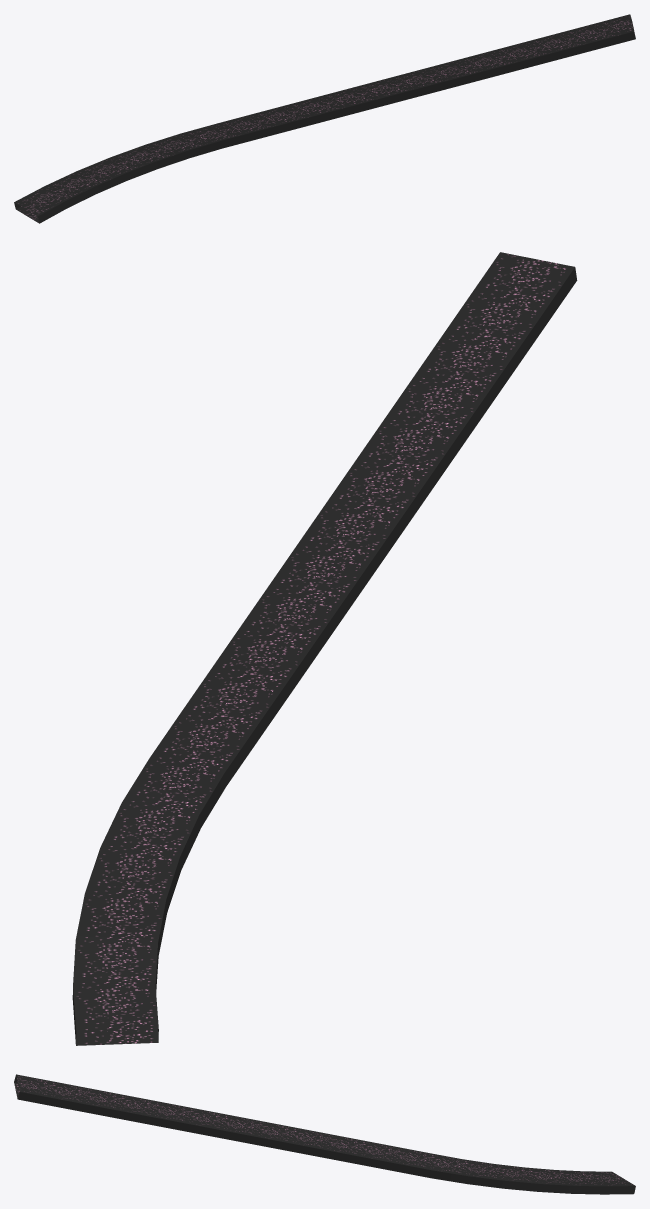
The model's file is OBJ_CourseSpring_testfloor4_6.fbx.
3 renders of one model, top to bottom at view 1: azimuth 90°, elevation 25°; view 2: azimuth 150°, elevation 25°; view 3: azimuth 270°, elevation 25°, orthographic. The views are drawn at different scales.
Parts seen in each view (by area): view 1: polySurface15; view 2: polySurface15; view 3: polySurface15.
Part boxes in pixels (left/top/right/bottom): polySurface15: left=14, top=14, right=635, bottom=223; polySurface15: left=72, top=252, right=577, bottom=1045; polySurface15: left=14, top=1074, right=635, bottom=1194.
Size of the model in its own units: 16.79 by 18.97 by 71.9.
1 material, 1 textured.
